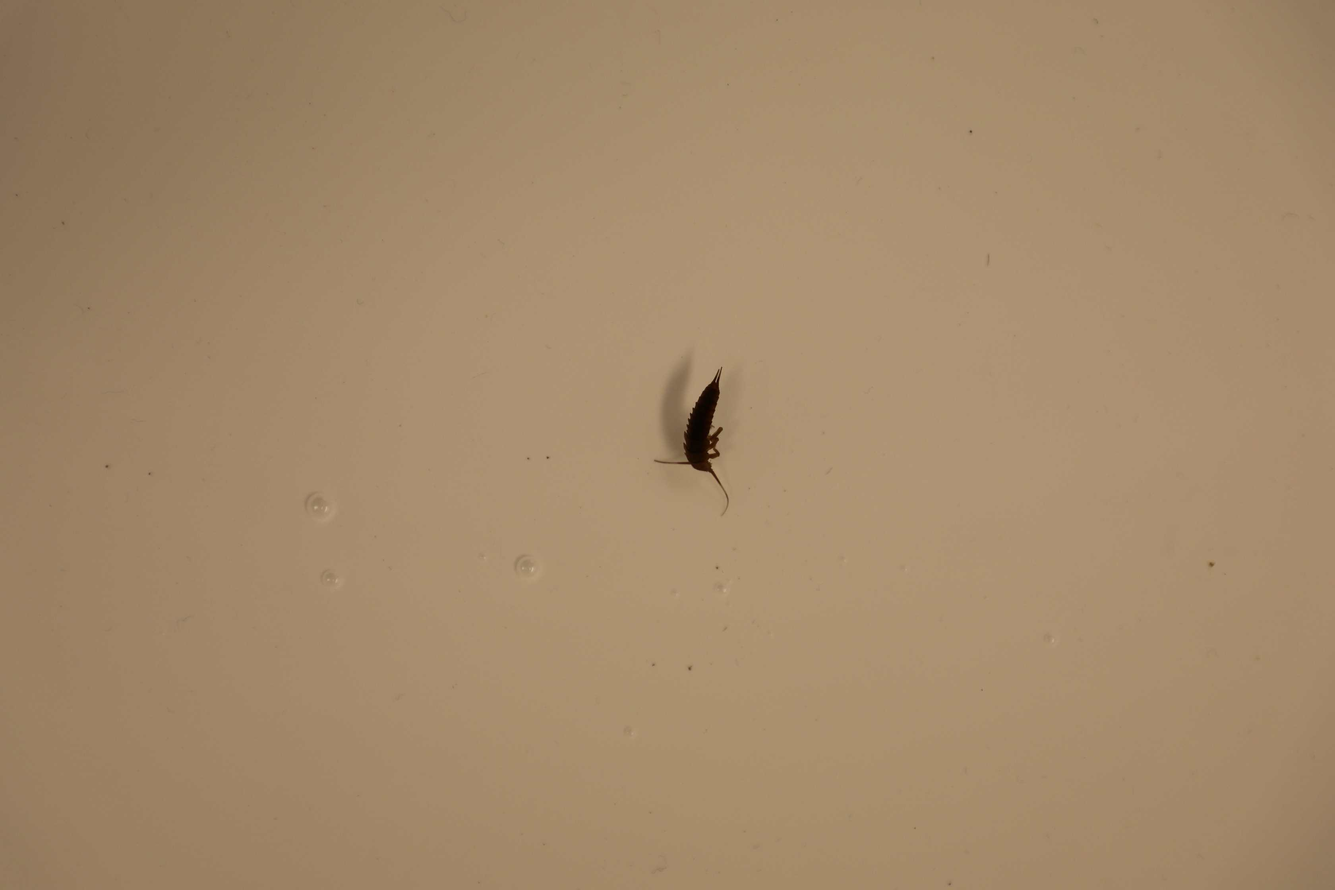Stonefly: (652, 370, 736, 520)
